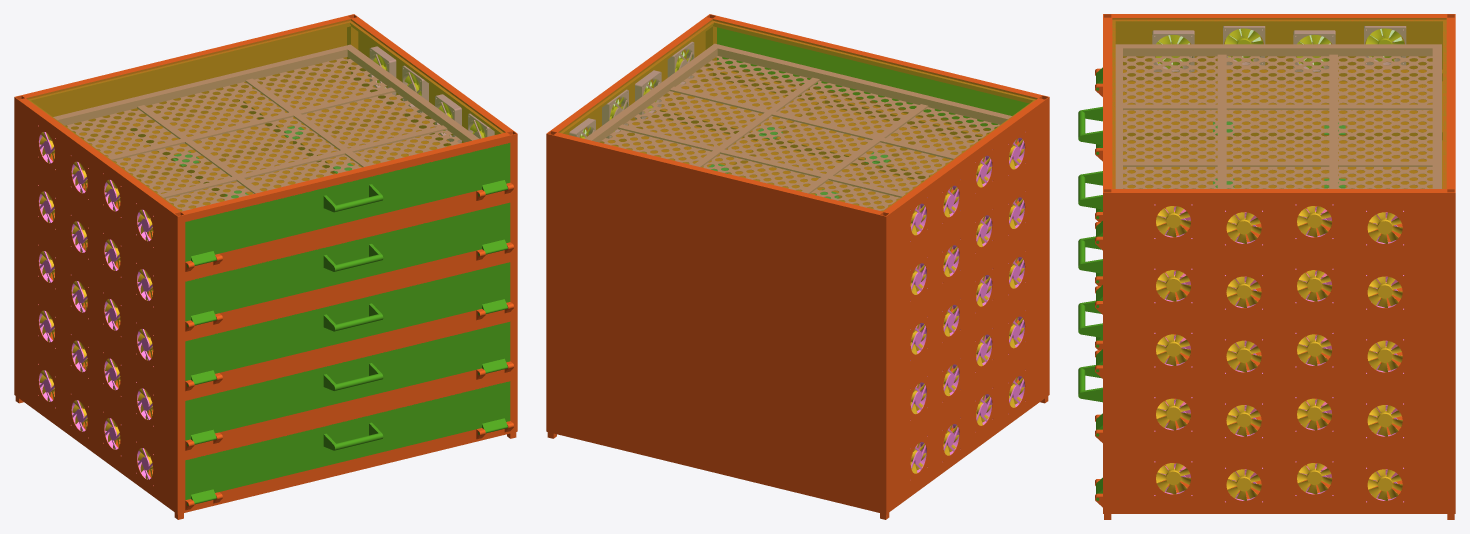
File: Stacked_SolarDryer-Assembly.gltf
The picture shows the model from 3 angles, left to right: view 1: azimuth 30°, elevation 25°; view 2: azimuth 150°, elevation 25°; view 3: azimuth 270°, elevation 25°; orthographic projection. The views are drawn at different scales.
Parts seen in each view (by area): view 1: Poly_Lid003, Module003, Tray003, Module002, Module001, Module005, Module004, Door004, Door003, Door005, Door002, Door006; view 2: Module003, Poly_Lid003, Tray003, Module002, Module004, Module005, Module001, Door004; view 3: Poly_Lid003, Module003, Tray003, Module002, Module001, Module005, Module004, Door004, Door005, Fan040, Fan041, Fan042 (+26 smaller).
Boxes of the visible parts, box(x1,y1,x2,y2) form: Poly_Lid003: box(26, 19, 505, 211); Module003: box(14, 14, 517, 275); Tray003: box(49, 44, 478, 211); Module002: box(14, 335, 517, 519); Module001: box(14, 276, 517, 454); Module005: box(14, 216, 517, 395); Module004: box(14, 157, 517, 335); Door004: box(185, 143, 510, 267); Door003: box(185, 381, 510, 505); Door005: box(185, 202, 510, 326); Door002: box(185, 321, 510, 446); Door006: box(185, 262, 510, 386); Module003: box(546, 14, 1049, 275); Poly_Lid003: box(559, 19, 1037, 211); Tray003: box(585, 44, 1018, 211); Module002: box(546, 335, 1049, 519); Module004: box(546, 157, 1049, 335); Module005: box(546, 216, 1049, 395); Module001: box(546, 276, 1049, 454); Door004: box(717, 27, 1028, 129); Poly_Lid003: box(1112, 18, 1446, 188); Module003: box(1095, 14, 1455, 256); Tray003: box(1115, 44, 1441, 220); Module002: box(1095, 340, 1455, 519); Module001: box(1095, 276, 1455, 449); Module005: box(1095, 212, 1455, 385); Module004: box(1095, 148, 1455, 321); Door004: box(1078, 67, 1102, 243); Door005: box(1078, 144, 1102, 308); Fan040: box(1226, 340, 1261, 372); Fan041: box(1297, 334, 1332, 365); Fan042: box(1367, 340, 1402, 372).
Bounding box in the file's own units: 1.2 × 1.03 × 1.07.
